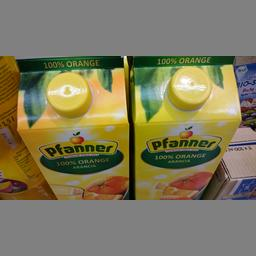juice: (14, 56, 132, 198), (130, 56, 241, 198)
